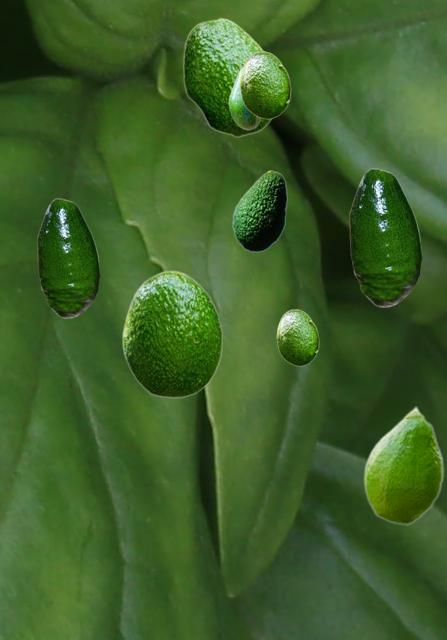avocado: (122, 270, 222, 397), (182, 17, 272, 136), (349, 168, 421, 306), (363, 405, 443, 524), (37, 198, 99, 317), (232, 170, 286, 251), (239, 51, 290, 118), (276, 309, 318, 365), (228, 68, 260, 129)
